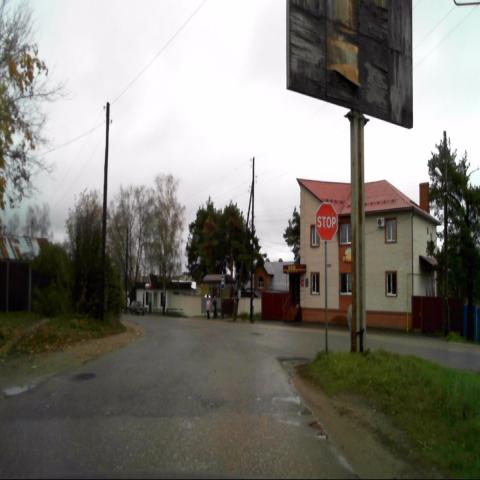2_5: (316, 202, 338, 243)
